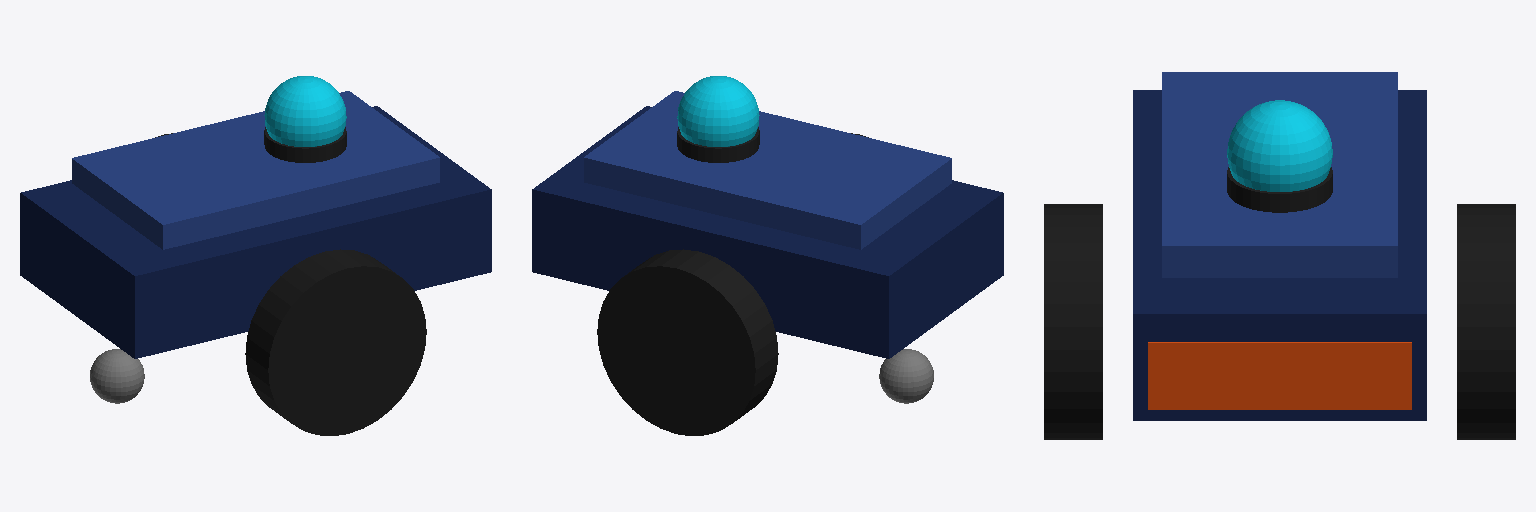
URDF robot description (omnibot):
<?xml version="1.0"?>
<!--
  OmniBot - simple differential drive robot
  Wheels are larger and stick out clearly from the chassis.
  Caster is small and centered behind.
-->
<robot name="omnibot">

  <!-- ============================================================ -->
  <!-- Materials                                                     -->
  <!-- ============================================================ -->
  <material name="dark_blue">
    <color rgba="0.12 0.18 0.35 1.0"/>
  </material>
  <material name="light_blue">
    <color rgba="0.20 0.30 0.55 1.0"/>
  </material>
  <material name="orange">
    <color rgba="0.90 0.35 0.10 1.0"/>
  </material>
  <material name="cyan">
    <color rgba="0.10 0.80 0.90 1.0"/>
  </material>
  <material name="dark_gray">
    <color rgba="0.15 0.15 0.15 1.0"/>
  </material>
  <material name="gray">
    <color rgba="0.50 0.50 0.50 1.0"/>
  </material>
  <material name="red">
    <color rgba="0.90 0.10 0.10 1.0"/>
  </material>

  <!-- ============================================================ -->
  <!-- base_link: chassis                                            -->
  <!--                                                                -->
  <!-- The robot's origin is at the wheel-axle height. The chassis    -->
  <!-- box sits above this plane so the wheels can stick out without  -->
  <!-- being hidden under the body.                                   -->
  <!-- ============================================================ -->
  <link name="base_link">
    <!-- Main chassis body (above wheel axis) -->
    <visual>
      <origin xyz="0 0 0.025" rpy="0 0 0"/>
      <geometry>
        <box size="0.18 0.10 0.04"/>
      </geometry>
      <material name="dark_blue"/>
    </visual>
    <!-- Top deck -->
    <visual>
      <origin xyz="0 0 0.055" rpy="0 0 0"/>
      <geometry>
        <box size="0.14 0.08 0.012"/>
      </geometry>
      <material name="light_blue"/>
    </visual>
    <!-- Front bumper -->
    <visual>
      <origin xyz="0.085 0 0.022" rpy="0 0 0"/>
      <geometry>
        <box size="0.012 0.09 0.025"/>
      </geometry>
      <material name="orange"/>
    </visual>
    <!-- Sensor tower (cylinder pointing UP, axis along Z which is the URDF default) -->
    <visual>
      <origin xyz="0.025 0 0.062" rpy="0 0 0"/>
      <geometry>
        <cylinder radius="0.018" length="0.012"/>
      </geometry>
      <material name="dark_gray"/>
    </visual>
    <!-- Sensor dome -->
    <visual>
      <origin xyz="0.025 0 0.075" rpy="0 0 0"/>
      <geometry>
        <sphere radius="0.018"/>
      </geometry>
      <material name="cyan"/>
    </visual>
    <!-- Rear light -->
    <visual>
      <origin xyz="-0.085 0 0.03" rpy="0 0 0"/>
      <geometry>
        <box size="0.008 0.05 0.012"/>
      </geometry>
      <material name="red"/>
    </visual>

    <!-- Collision: a single box matching the chassis -->
    <collision>
      <origin xyz="0 0 0.025" rpy="0 0 0"/>
      <geometry>
        <box size="0.18 0.10 0.04"/>
      </geometry>
    </collision>

    <inertial>
      <origin xyz="-0.02 0 0.015" rpy="0 0 0"/>
      <mass value="0.4"/>
    </inertial>
  </link>

  <!-- ============================================================ -->
  <!-- Left wheel                                                    -->
  <!--                                                                -->
  <!-- URDF cylinders have their axis along Z by default. To make a  -->
  <!-- wheel that spins around Y (the axle), rotate the visual by    -->
  <!-- pi/2 around the X axis: rpy="1.5708 0 0".                     -->
  <!-- ============================================================ -->
  <link name="left_wheel">
    <visual>
      <origin xyz="0 0 0" rpy="1.5708 0 0"/>
      <geometry>
        <cylinder radius="0.04" length="0.02"/>
      </geometry>
      <material name="dark_gray"/>
    </visual>
    <!-- Sphere collision for reliable ODE plane contact -->
    <collision>
      <origin xyz="0 0 0" rpy="0 0 0"/>
      <geometry>
        <sphere radius="0.04"/>
      </geometry>
    </collision>
    <inertial>
      <origin xyz="0 0 0" rpy="0 0 0"/>
      <mass value="0.05"/>
    </inertial>
  </link>

  <joint name="left_wheel_joint" type="continuous">
    <parent link="base_link"/>
    <child link="left_wheel"/>
    <!-- Wheel sticks out 0.07 from center, axle at robot Z origin -->
    <origin xyz="0 0.07 0" rpy="0 0 0"/>
    <axis xyz="0 1 0"/>
    <limit effort="10" velocity="10"/>
  </joint>

  <!-- ============================================================ -->
  <!-- Right wheel                                                   -->
  <!-- ============================================================ -->
  <link name="right_wheel">
    <visual>
      <origin xyz="0 0 0" rpy="1.5708 0 0"/>
      <geometry>
        <cylinder radius="0.04" length="0.02"/>
      </geometry>
      <material name="dark_gray"/>
    </visual>
    <collision>
      <origin xyz="0 0 0" rpy="0 0 0"/>
      <geometry>
        <sphere radius="0.04"/>
      </geometry>
    </collision>
    <inertial>
      <origin xyz="0 0 0" rpy="0 0 0"/>
      <mass value="0.05"/>
    </inertial>
  </link>

  <joint name="right_wheel_joint" type="continuous">
    <parent link="base_link"/>
    <child link="right_wheel"/>
    <origin xyz="0 -0.07 0" rpy="0 0 0"/>
    <axis xyz="0 1 0"/>
    <limit effort="10" velocity="10"/>
  </joint>

  <!-- ============================================================ -->
  <!-- Caster (small passive ball at the rear)                       -->
  <!--                                                                -->
  <!-- The caster has the same effective ground-contact height as    -->
  <!-- the wheels (its bottom touches the floor at the same Z).      -->
  <!-- Since wheel radius = 0.04 and caster radius = 0.012, the      -->
  <!-- caster center sits at (0.04 - 0.012) = 0.028 below the wheel  -->
  <!-- axle so its bottom matches.                                    -->
  <!-- ============================================================ -->
  <link name="caster">
    <visual>
      <origin xyz="0 0 0" rpy="0 0 0"/>
      <geometry>
        <sphere radius="0.012"/>
      </geometry>
      <material name="gray"/>
    </visual>
    <collision>
      <origin xyz="0 0 0" rpy="0 0 0"/>
      <geometry>
        <sphere radius="0.012"/>
      </geometry>
    </collision>
    <inertial>
      <origin xyz="0 0 0" rpy="0 0 0"/>
      <mass value="0.005"/>
    </inertial>
  </link>

  <joint name="caster_joint" type="fixed">
    <parent link="base_link"/>
    <child link="caster"/>
    <origin xyz="-0.07 0 -0.028" rpy="0 0 0"/>
  </joint>

</robot>

--- Facts derived from the render (not from the file) ---
Views: 3 orthographic renders of the robot side by side, from view 1: azimuth 30°, elevation 25°; view 2: azimuth 150°, elevation 25°; view 3: azimuth 270°, elevation 25°.
Model omnibot with 4 links and 3 joints (2 continuous, 1 fixed), rooted at base_link, posed every joint at zero.
Links seen in each view (by area): view 1: base_link, right_wheel, caster; view 2: base_link, left_wheel, caster; view 3: base_link, left_wheel, right_wheel.
Boxes of the visible links, x1,y1,x2,y2 form: base_link: (20,76,491,358); right_wheel: (245,249,426,435); caster: (90,349,144,403); base_link: (532,76,1003,358); left_wheel: (597,249,778,435); caster: (879,349,933,403); base_link: (1133,72,1426,420); left_wheel: (1457,204,1515,439); right_wheel: (1044,204,1102,439).
Size in the robot's own frame: 0.181 by 0.16 by 0.133 metres.
Geometry: primitives only (box / cylinder / sphere), no mesh files.
